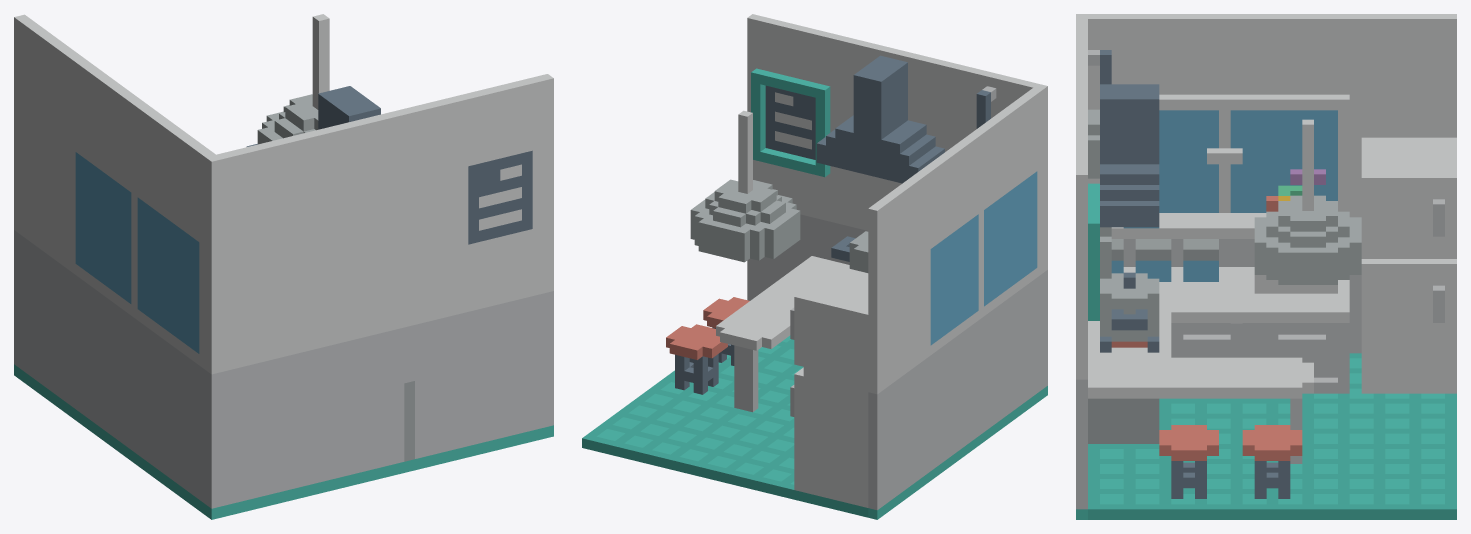
3 views of the same model, side by side, from view 1: azimuth 30°, elevation 25°; view 2: azimuth 150°, elevation 25°; view 3: azimuth 270°, elevation 25° (orthographic). The views are drawn at different scales.
Parts seen in each view (by area): view 1: Object_2; view 2: Object_2; view 3: Object_2.
Part boxes in pixels (x1=…): Object_2: x1=14, y1=14, x2=553, y2=519; Object_2: x1=582, y1=14, x2=1047, y2=519; Object_2: x1=1076, y1=14, x2=1456, y2=519.
Bounding box in the file's own units: 32 × 32 × 32.
